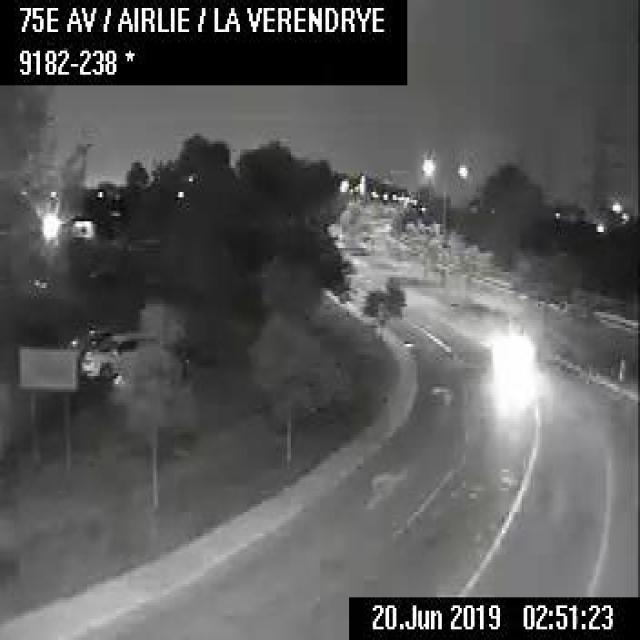vehicle: (79, 328, 156, 378)
